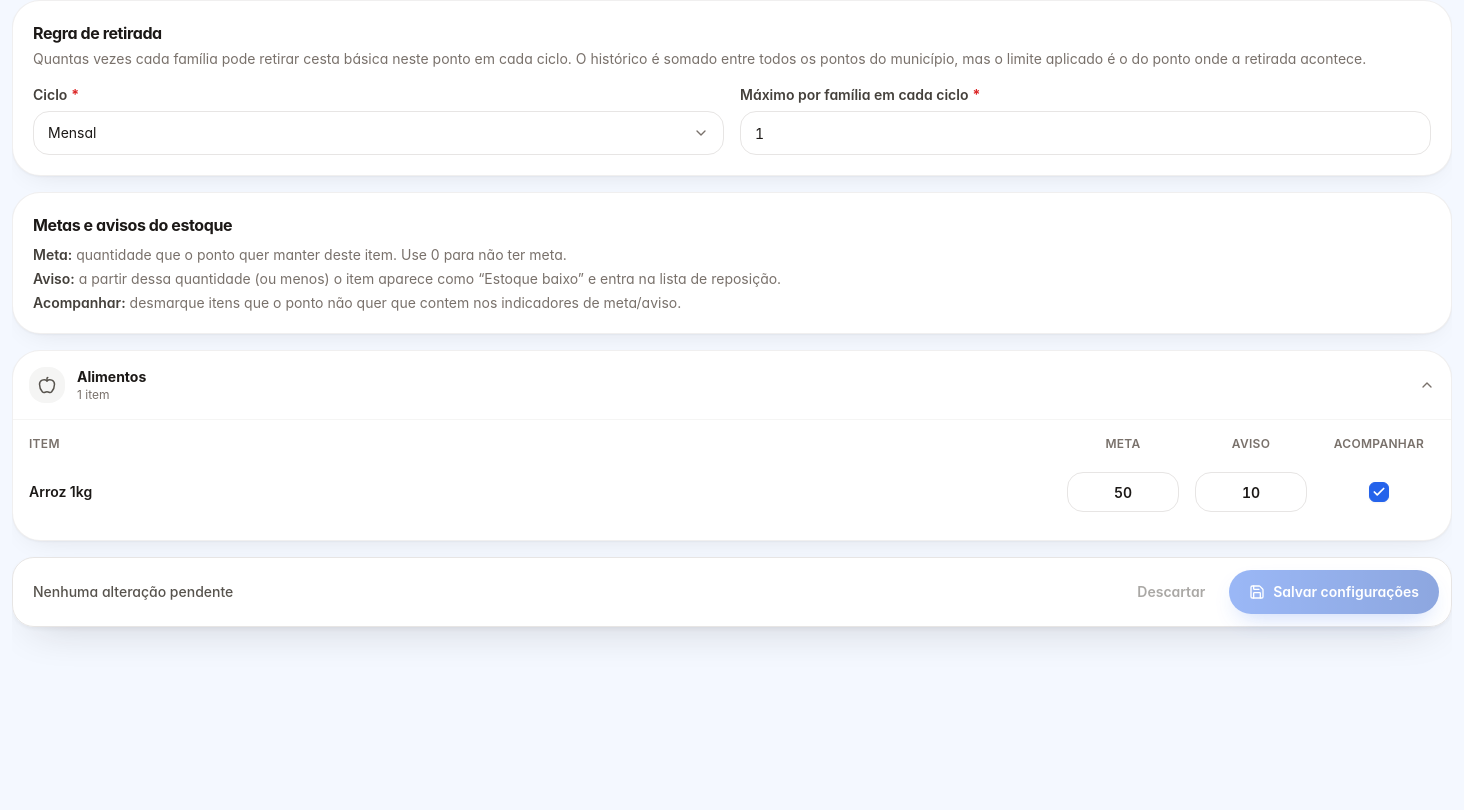
Scenario: StockSettingsEditor › bloqueia o salvamento quando o aviso é maior que a meta
The image size is (1464, 810).
Replace the text in the number field named "Aviso de Arroz 1kg" with "60" at [1251, 492], box [1195,472,1307,512]
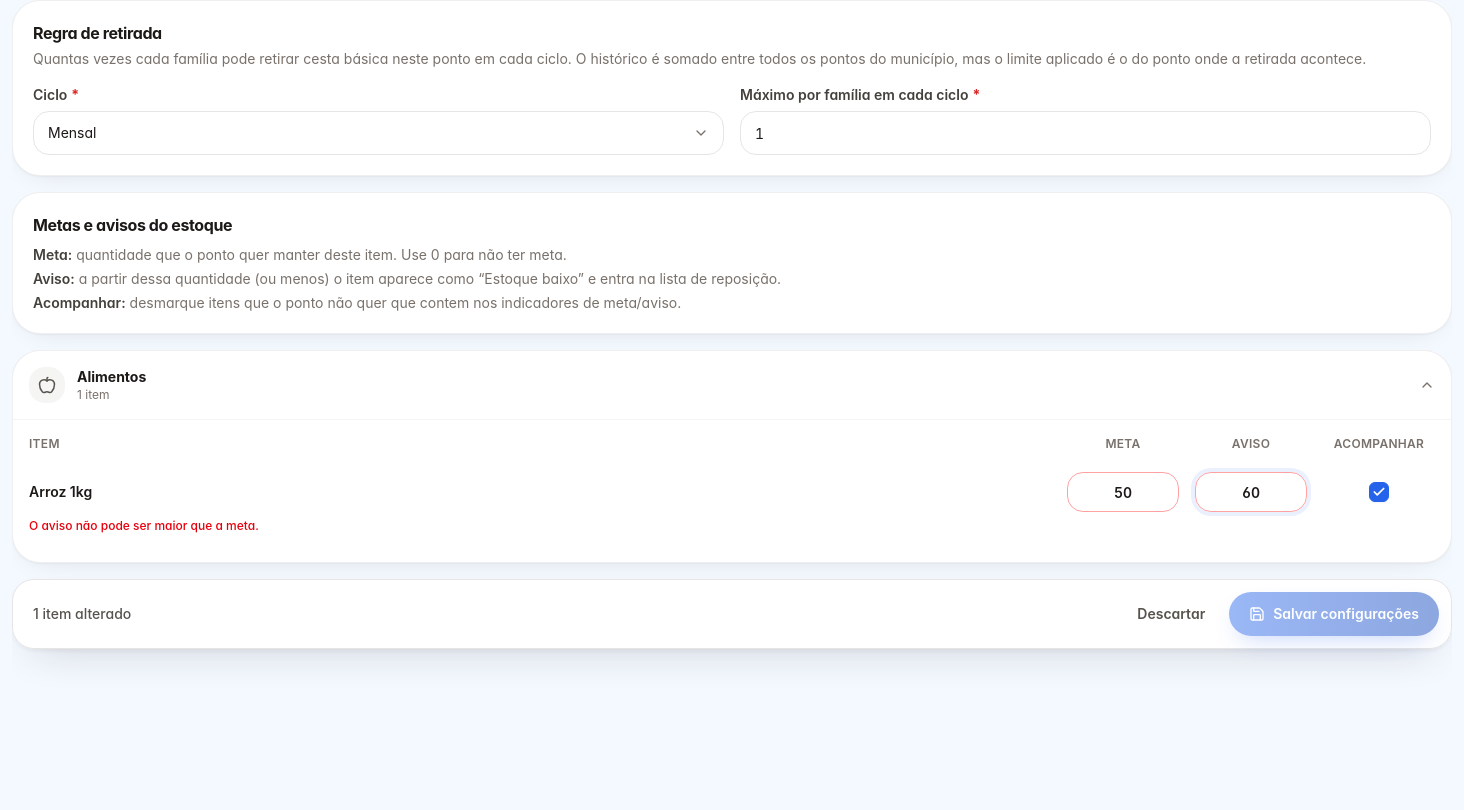
Check: the text "O aviso não pode ser maior que a meta." is shown, box [29,518,259,533]
Check: the button "Salvar configurações" is disabled, box [1229,592,1439,636]
